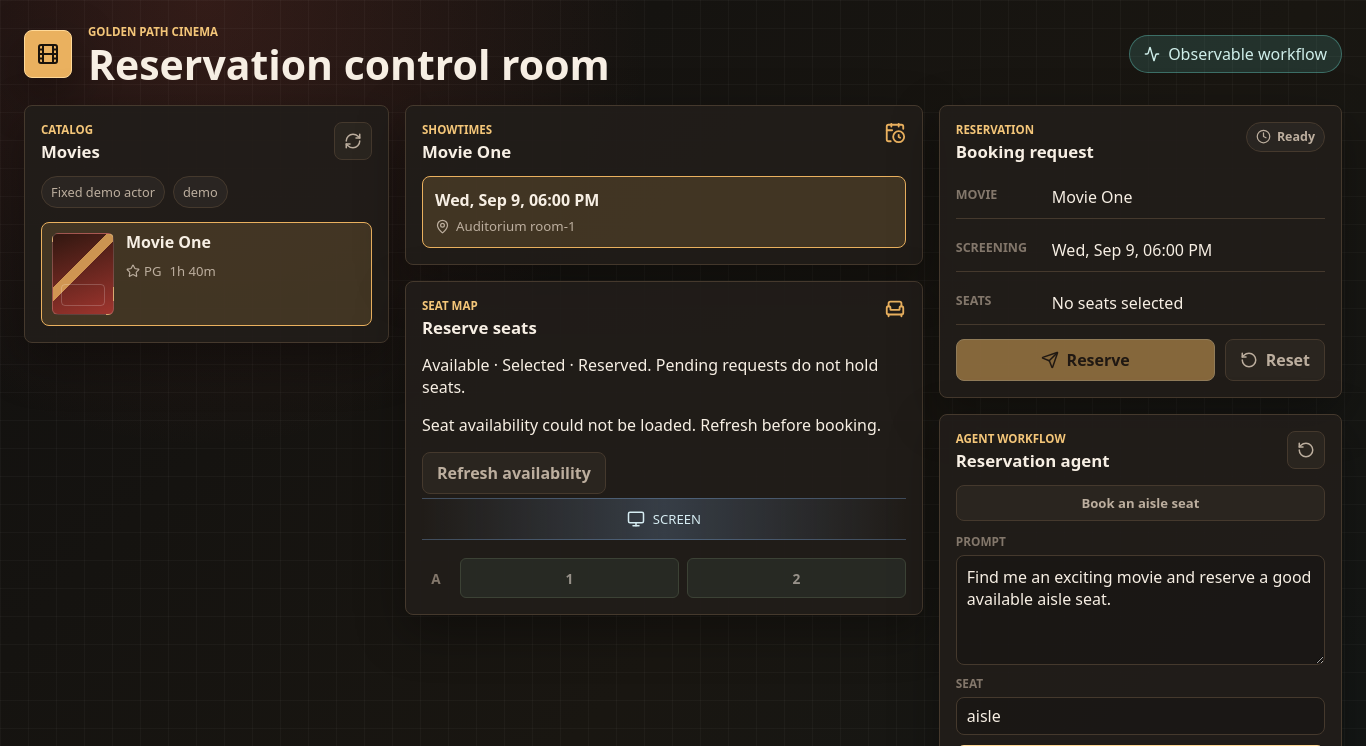
it: server-owned booking availability › disables unknown seats on outage and recovers with explicit refresh
This screenshot has width=1366, height=746.
Check: the message shows "Seat availability could not be loaded", box [422, 414, 881, 436]
Check: the button named "Seat A1 — Unknown availability" is disabled, box [460, 558, 679, 598]
Click the button "Refresh availability": (514, 473) [422, 452, 606, 494]
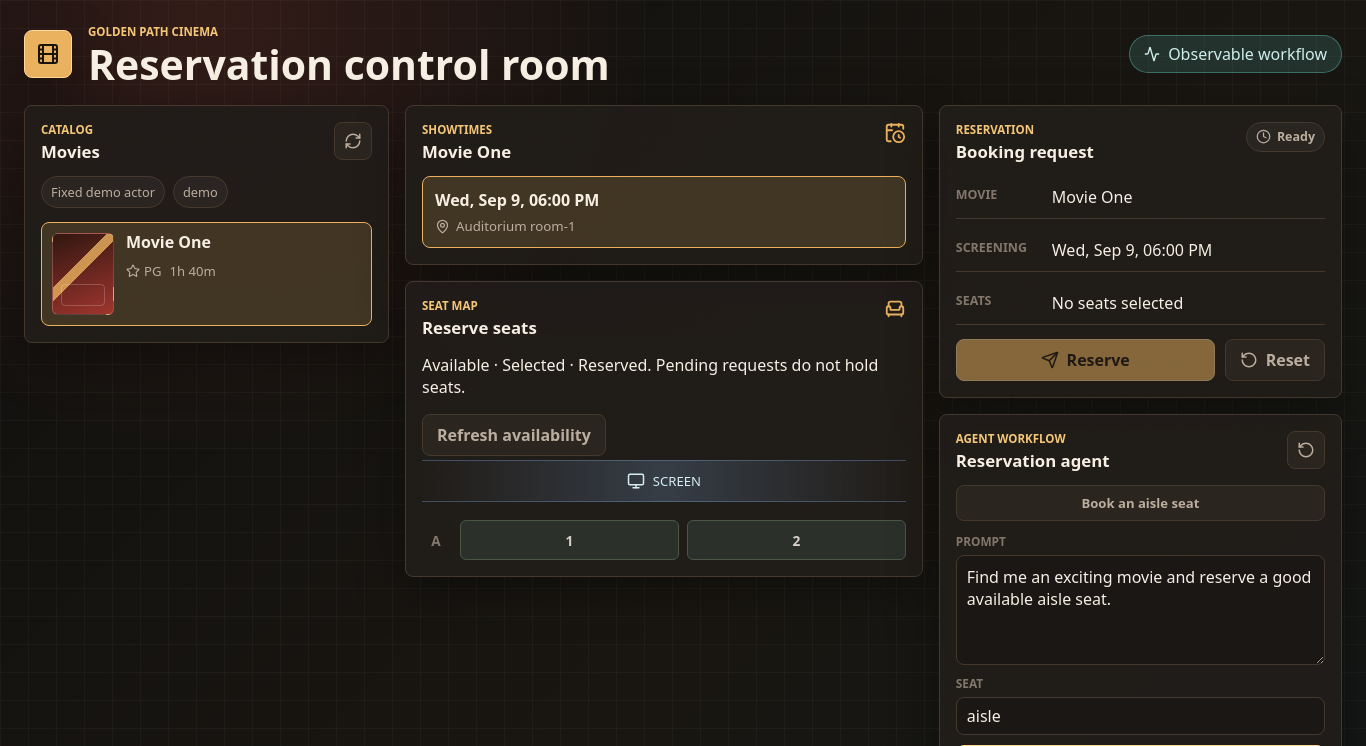
Check: the button named "Seat A1 — Available" is enabled, box [460, 520, 679, 560]
